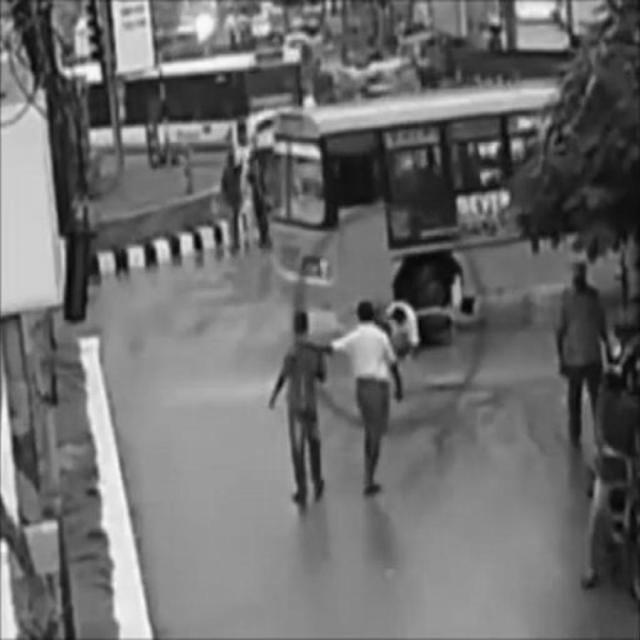person: (344, 299, 400, 501), (558, 258, 608, 456), (279, 297, 325, 508)
vehicle: (271, 88, 633, 309), (132, 55, 306, 165)
